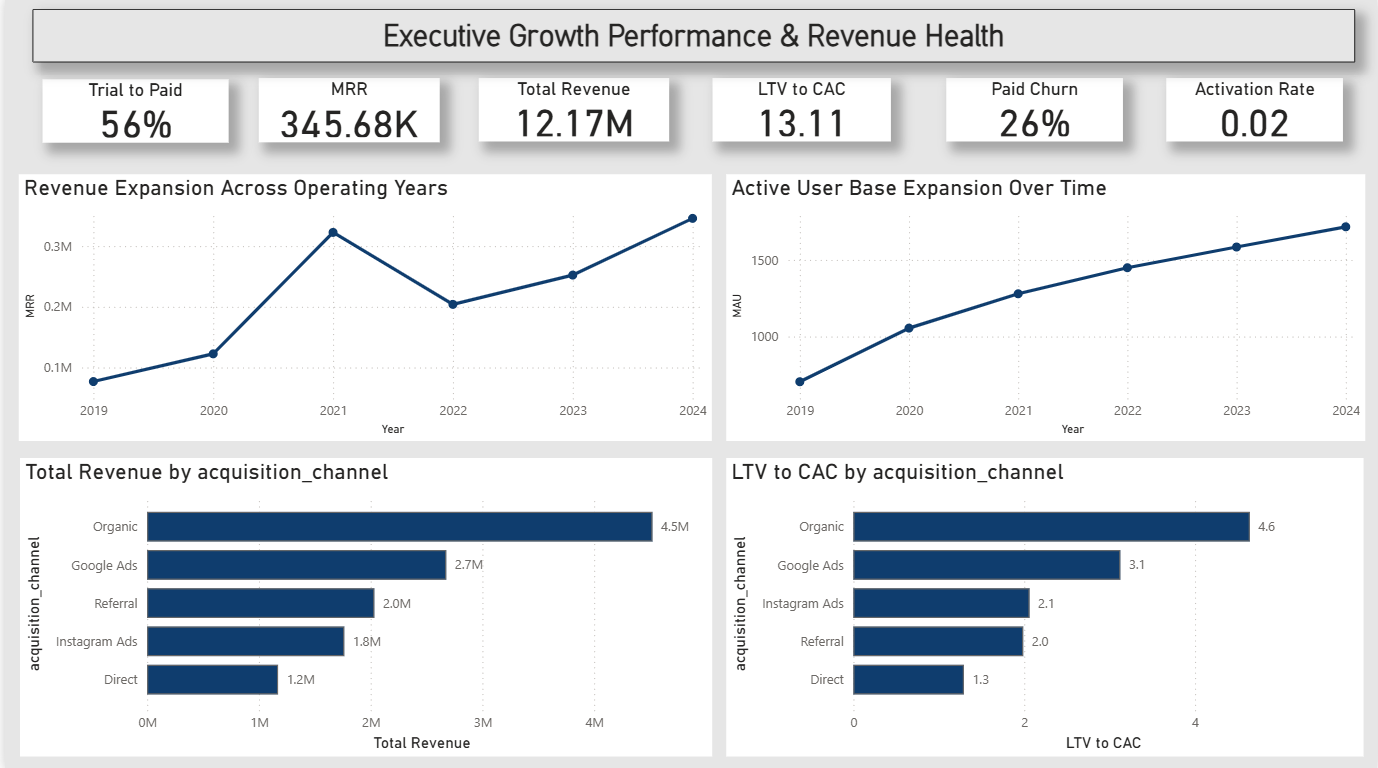

Layout of this report page (visuals, bound fields, positions):
{"tool":"powerbi","page":{"name":"Page 1","canvas":[1280,720],"ordinal":0},"visuals":[{"type":"lineChart","title":"Revenue Expansion Across Operating Years","fields":{"Y":["Table.MRR"],"Category":["DateTable.Column Hierarchy.Year","DateTable.Column Hierarchy.Month"]},"box":[13.3,164.1,646.7,248.5],"z":0},{"type":"lineChart","title":"Active User Base Expansion Over Time","fields":{"Y":["Table.MAU"],"Category":["DateTable.Column Hierarchy.Year","DateTable.Column Hierarchy.Month"]},"box":[673.2,164.1,596,248.5],"z":1000},{"type":"barChart","fields":{"Y":["Table.Total Revenue"],"Category":["users.acquisition_channel"]},"box":[14.5,429.5,645.4,278.7],"z":2000},{"type":"barChart","fields":{"Y":["Table.LTV to CAC"],"Category":["users.acquisition_channel"]},"box":[673.2,429.5,594.8,278.7],"z":3000},{"type":"card","title":"Total Revenue","fields":{"Values":["Table.Total Revenue"]},"box":[441.9,74.3,177.6,59.2],"z":4000},{"type":"card","title":"MRR","fields":{"Values":["Table.MRR"]},"box":[26.2,74.3,169.3,60.6],"z":5000},{"type":"card","title":"Trial to Paid","fields":{"Values":["Table.Trial to Paid %"]},"box":[232.7,74.3,173.5,59.2],"z":6000},{"type":"card","title":"Paid Churn","fields":{"Values":["Table.Paid Churn %"]},"box":[878.3,74.3,165.2,59.2],"z":7000},{"type":"card","title":"Activation Rate","fields":{"Values":["Table.Activation Rate"]},"box":[1083.4,74.3,165.2,59.2],"z":8000},{"type":"card","title":"LTV to CAC","fields":{"Values":["Table.LTV to CAC"]},"box":[659.4,74.3,166.6,59.2],"z":9000},{"type":"textbox","box":[26.2,11,1233.5,49.6],"z":9001}]}

Visuals, with their boxes in screenshot pixels (x1, y1, x2, y2), scaled from the page's 1280x720 canvas onto the 1378x768 screenshot:
"Revenue Expansion Across Operating Years" lineChart: locate(14, 175, 711, 440)
"Active User Base Expansion Over Time" lineChart: locate(725, 175, 1366, 440)
barChart - Table.Total Revenue x users.acquisition_channel: locate(16, 458, 710, 755)
barChart - Table.LTV to CAC x users.acquisition_channel: locate(725, 458, 1365, 755)
"Total Revenue" card: locate(476, 79, 667, 142)
"MRR" card: locate(28, 79, 210, 144)
"Trial to Paid" card: locate(251, 79, 437, 142)
"Paid Churn" card: locate(946, 79, 1123, 142)
"Activation Rate" card: locate(1166, 79, 1344, 142)
"LTV to CAC" card: locate(710, 79, 889, 142)
textbox: locate(28, 12, 1356, 65)
